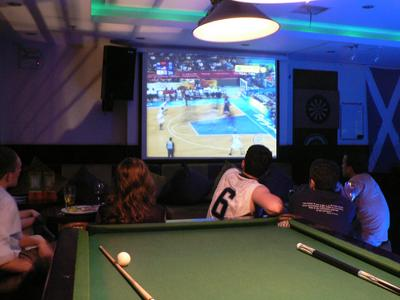person: (206, 143, 285, 220)
